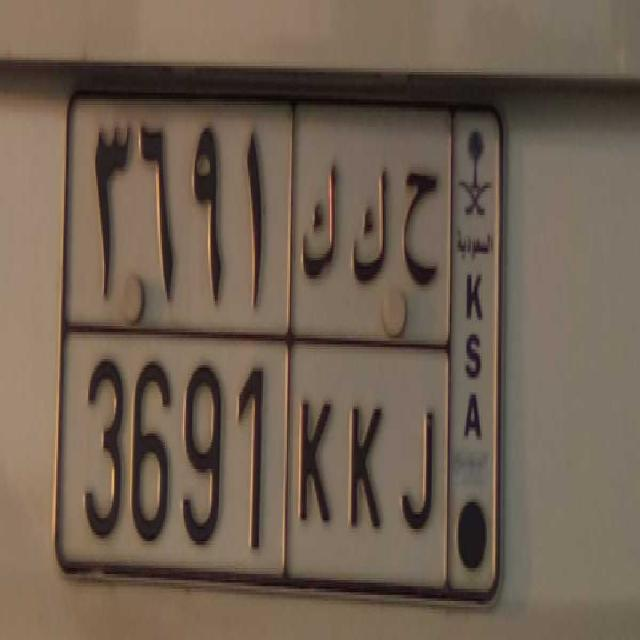license_plate: (64, 326, 443, 586)
